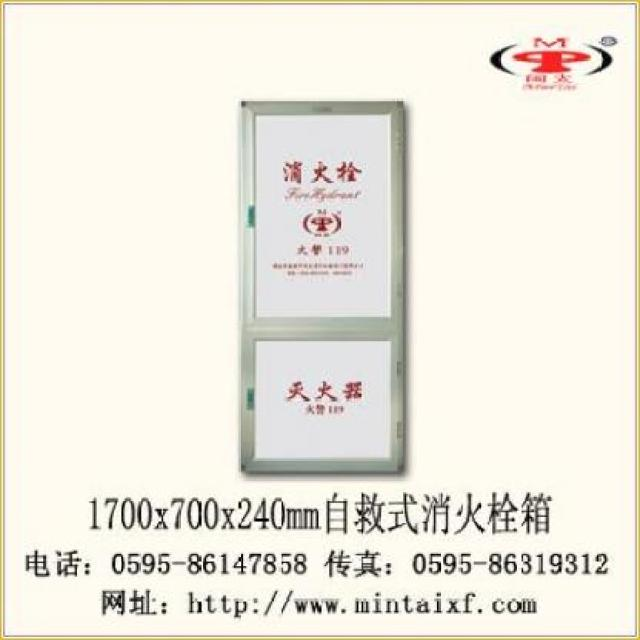firehydrant: (232, 96, 410, 478)
